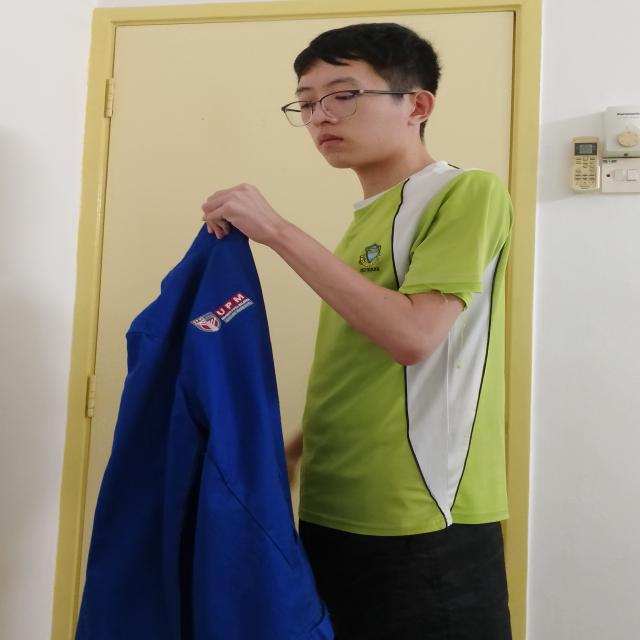person_without_labcoat: (79, 23, 514, 640)
